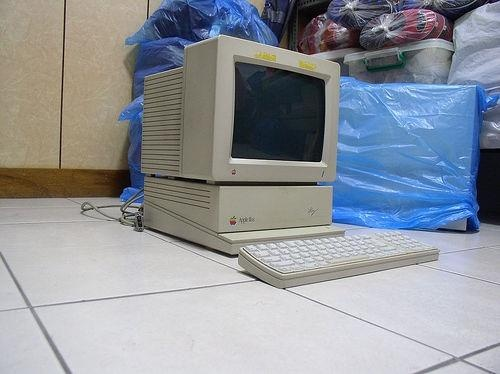tvmonitor: (143, 37, 337, 185)
